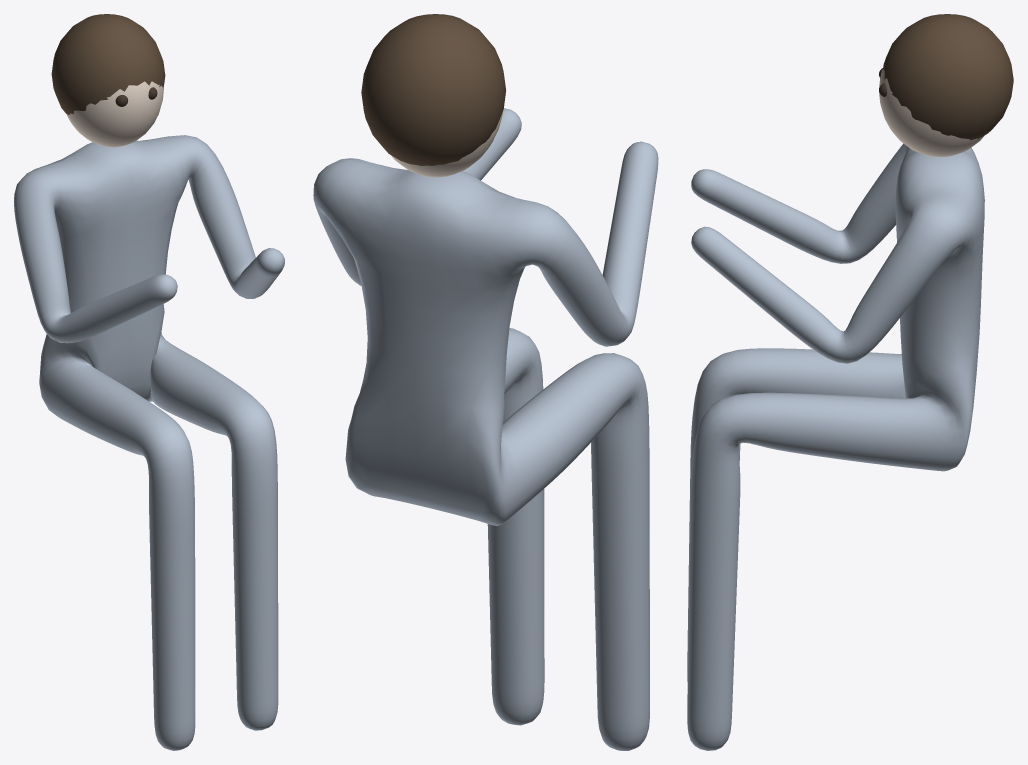
Rendered from kid_sit.glb.
The picture shows the model from 3 angles, left to right: view 1: azimuth 30°, elevation 25°; view 2: azimuth 150°, elevation 25°; view 3: azimuth 270°, elevation 25°; orthographic projection. The views are drawn at different scales.
Parts seen in each view (by area): view 1: body, hair, head; view 2: body, hair, head; view 3: body, hair, head.
Part boxes in pixels (bbox=[...]): body: bbox=[14, 135, 284, 750]; hair: bbox=[51, 14, 165, 114]; head: bbox=[66, 81, 163, 147]; body: bbox=[313, 108, 658, 750]; hair: bbox=[361, 14, 506, 165]; head: bbox=[391, 112, 502, 177]; body: bbox=[687, 143, 984, 750]; hair: bbox=[883, 14, 1013, 140]; head: bbox=[879, 69, 984, 156].
Size of the model in its own units: 0.3576 by 1.01 by 0.4225.
